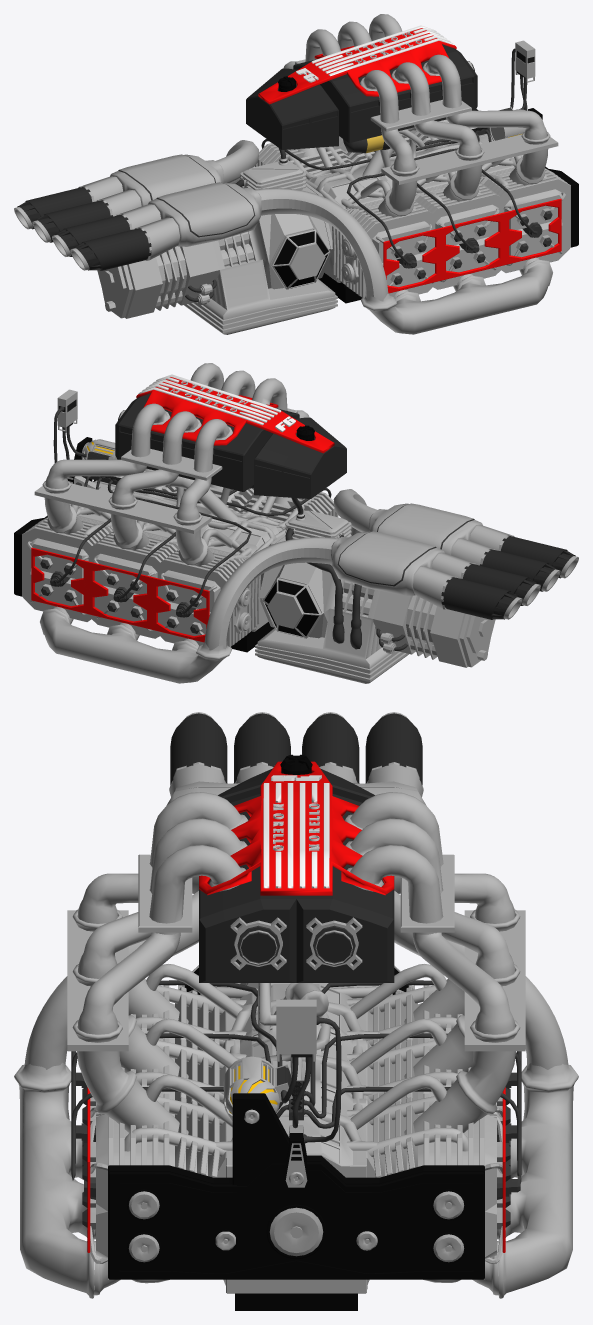
Rendered from eng-f6-30-t.glb.
3 views of the same model, one above another, from view 1: azimuth 30°, elevation 25°; view 2: azimuth 150°, elevation 25°; view 3: azimuth 270°, elevation 25° (orthographic). The views are drawn at different scales.
Parts seen in each view (by area): view 1: Object_10; view 2: Object_10; view 3: Object_10.
Part boxes in pixels (bbox=[...]): Object_10: bbox=[14, 14, 578, 334]; Object_10: bbox=[14, 363, 578, 683]; Object_10: bbox=[14, 712, 578, 1310].
Bounding box in the file's own units: 15.85 × 7.29 × 9.23.
Materials: 1 (1 with a texture image).
